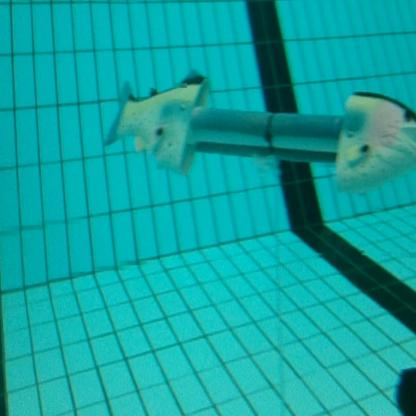tail: (105, 64, 216, 182)
